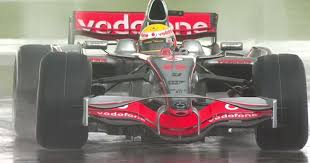FormulaOneCar: (9, 1, 310, 152)
